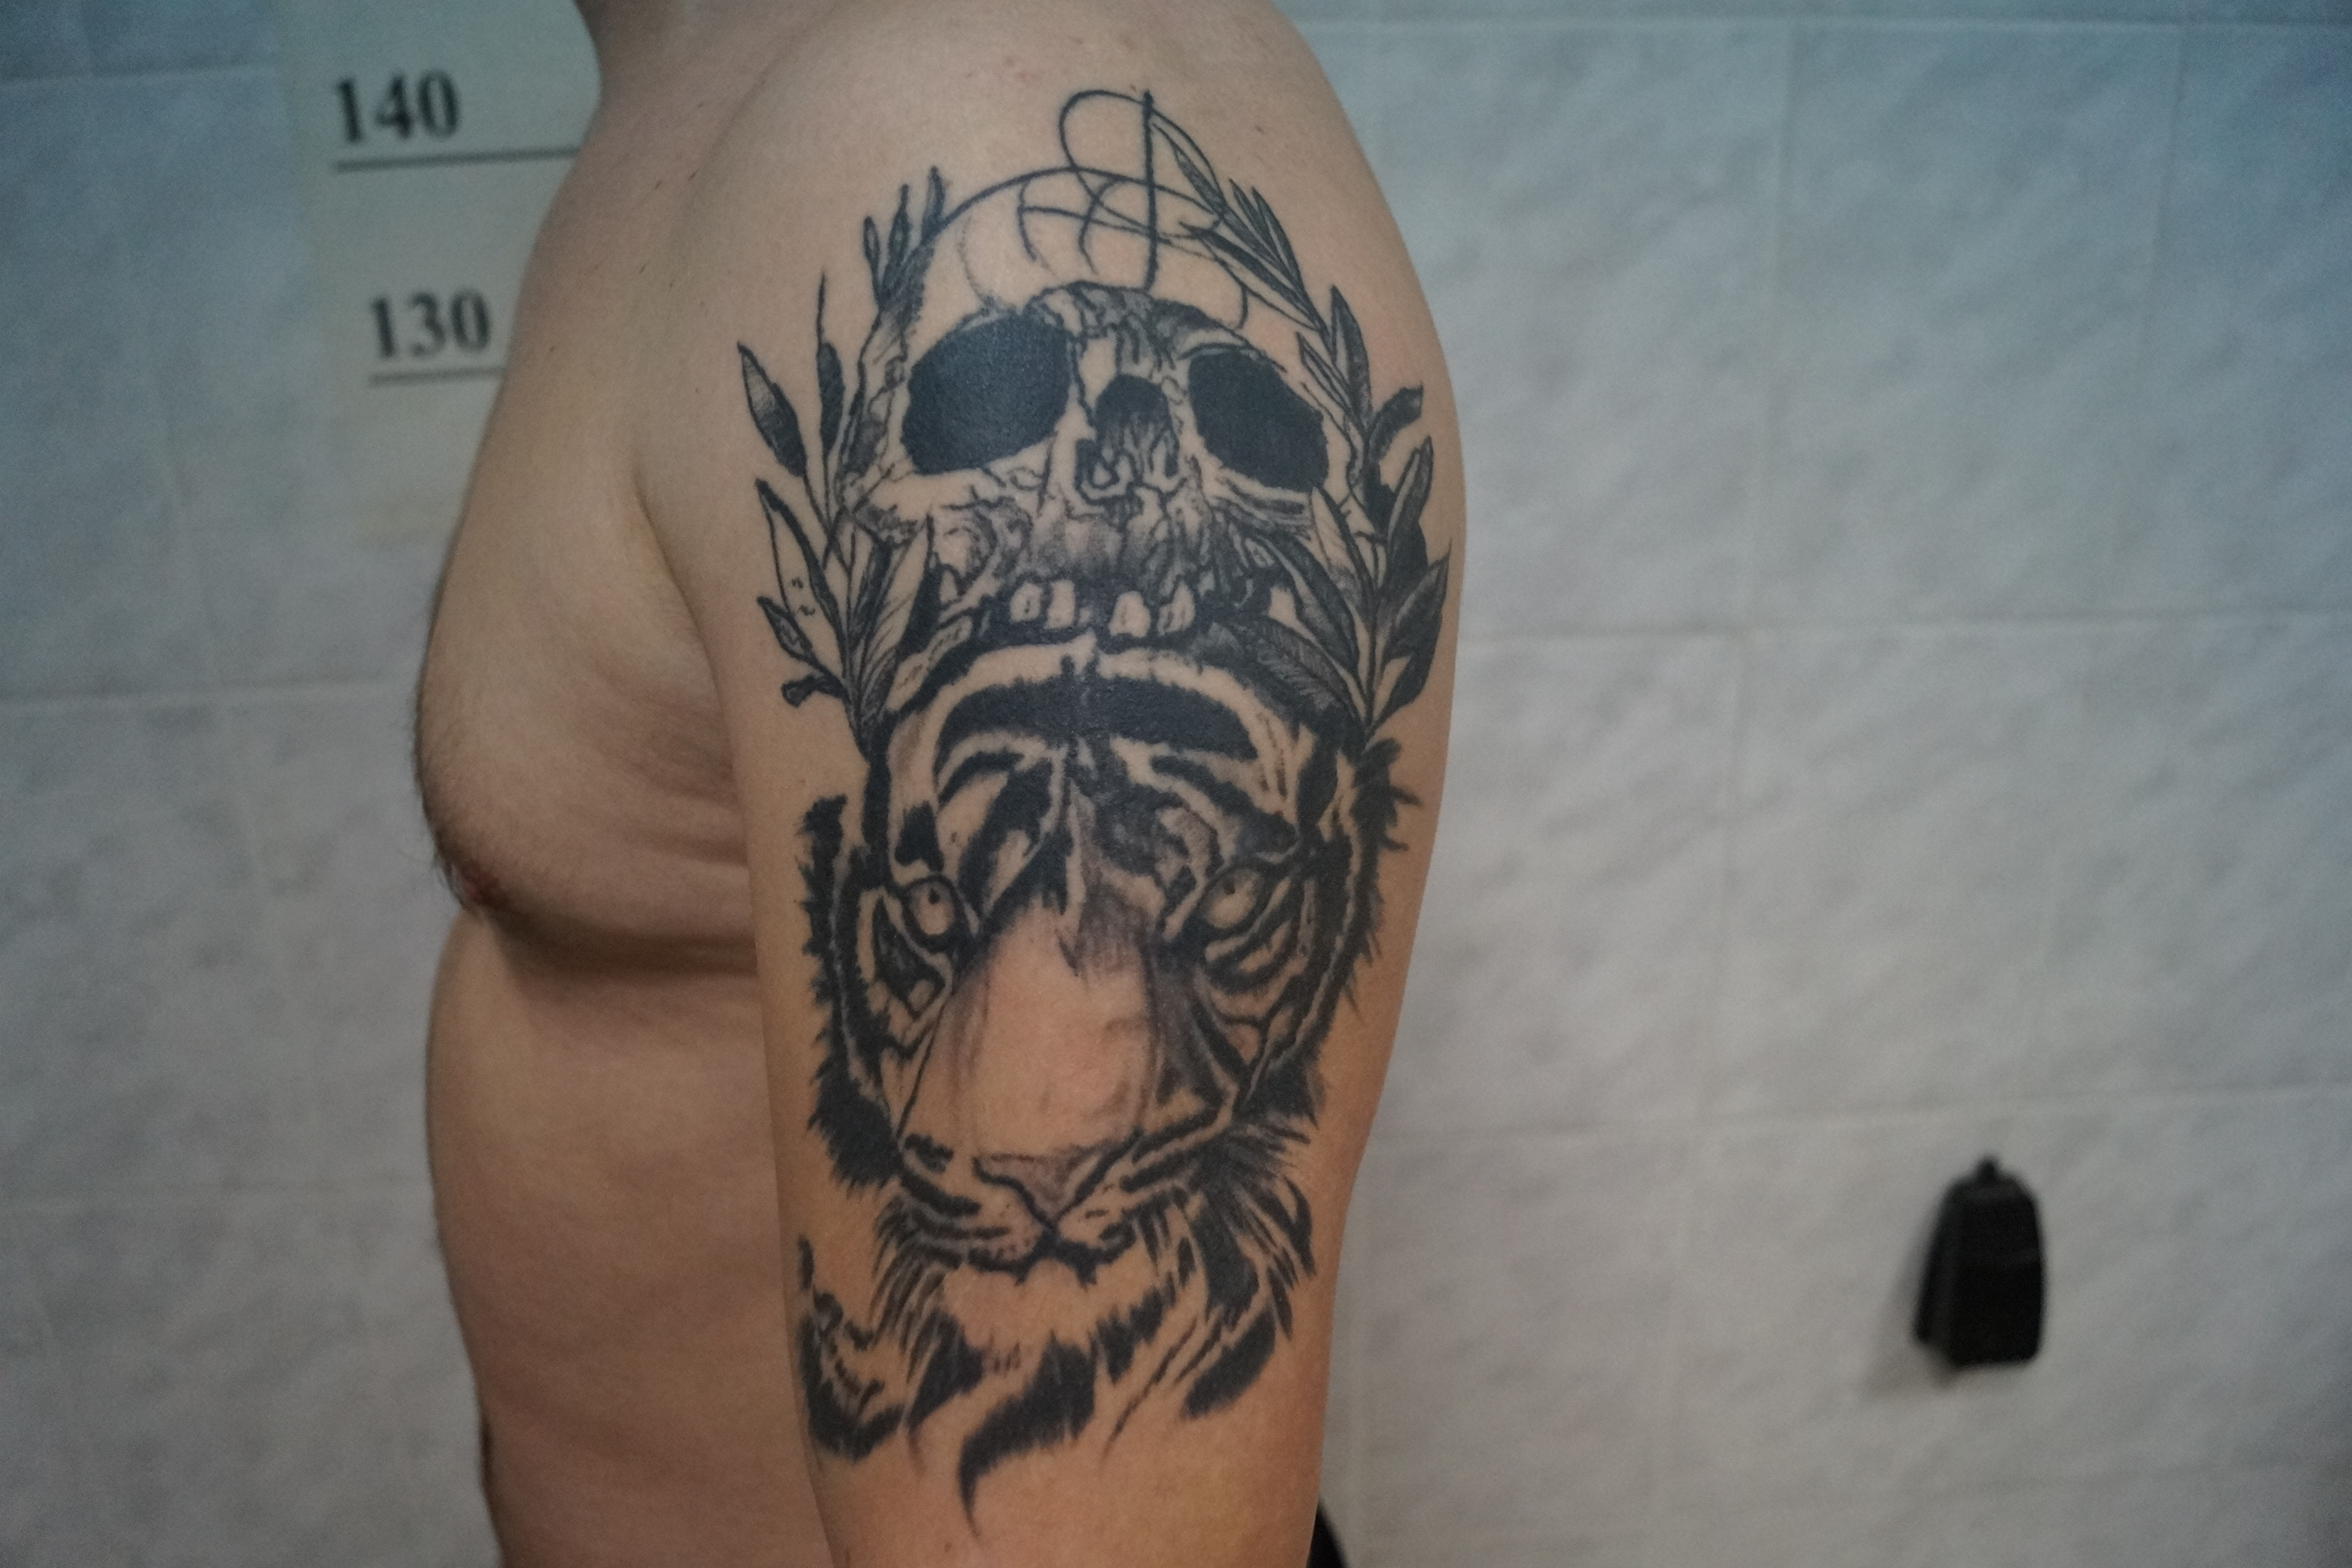tatu5_tigr: (672, 558, 1473, 1533)
